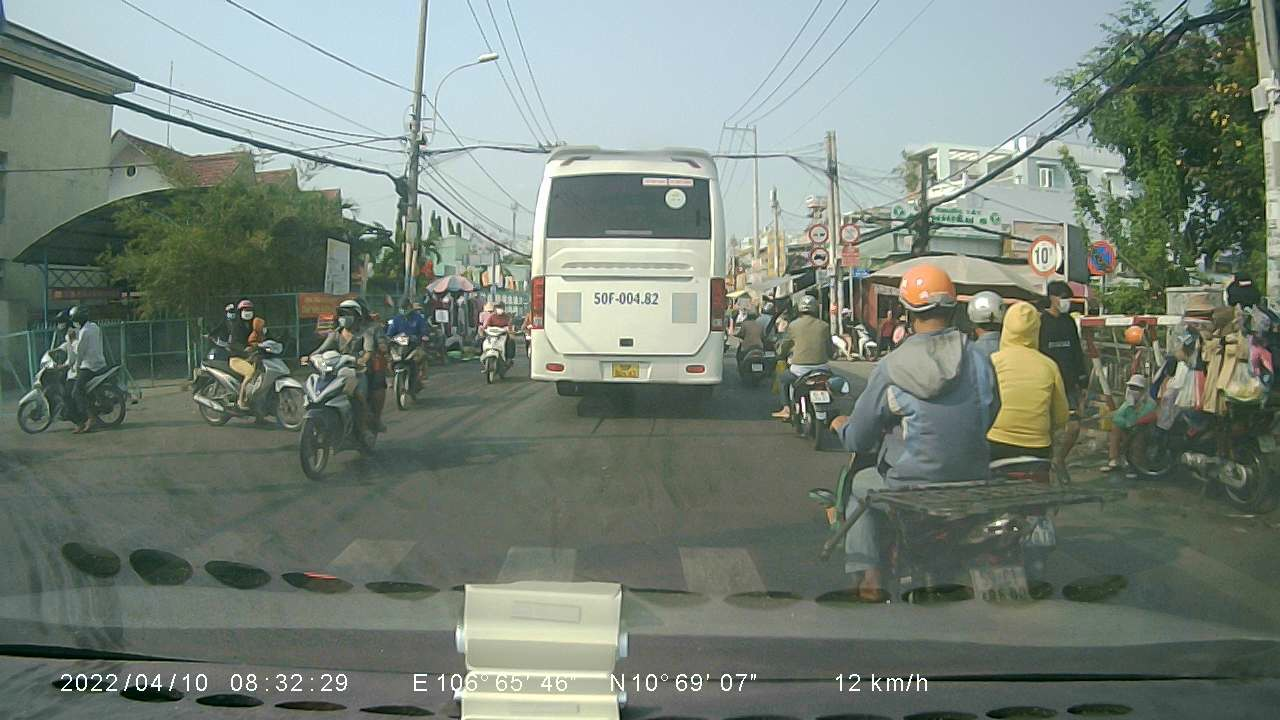Bien khac: (1027, 229, 1062, 279), (807, 245, 831, 267), (808, 222, 828, 243)
